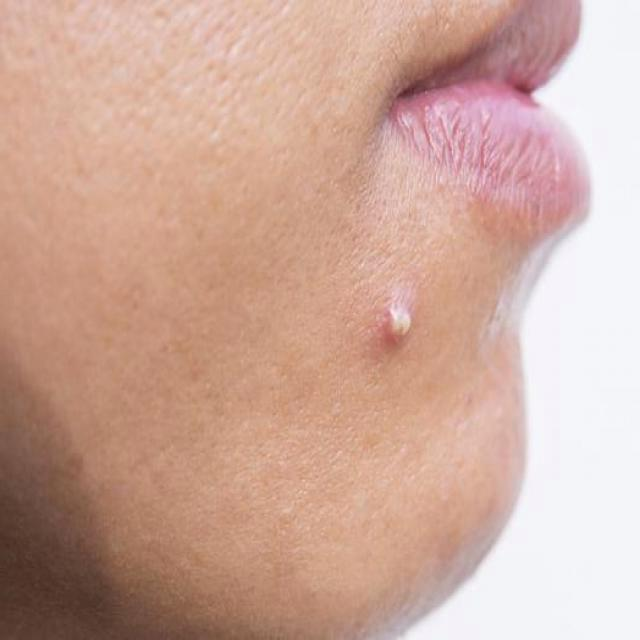Pimples: (384, 299, 412, 346)
